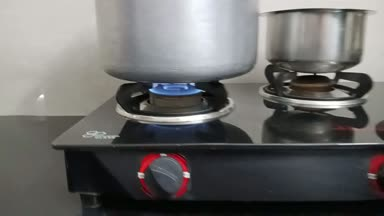flame_gas_on: (116, 80, 223, 205)
